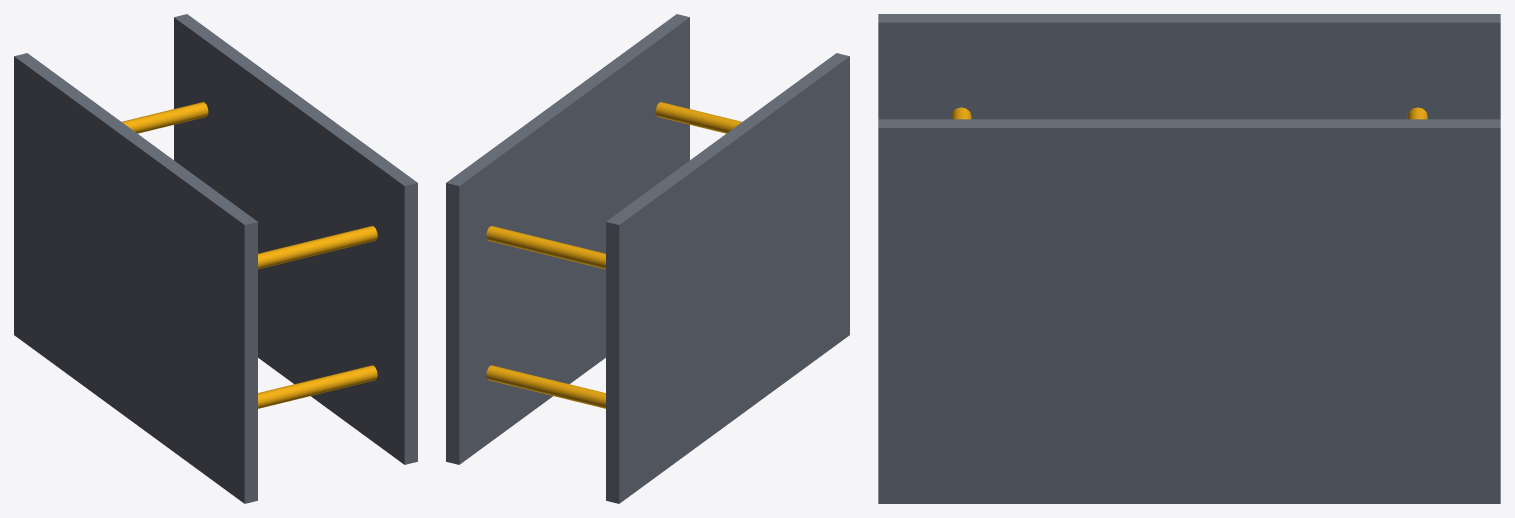
Rendered from plant.temporary.trench_box.glb.
The picture shows the model from 3 angles, left to right: view 1: azimuth 30°, elevation 25°; view 2: azimuth 150°, elevation 25°; view 3: azimuth 270°, elevation 25°; orthographic projection. The views are drawn at different scales.
Parts seen in each view (by area): view 1: main__steel_painted, main__plant_yellow; view 2: main__steel_painted, main__plant_yellow; view 3: main__steel_painted.
Part boxes in pixels (x1=…): main__steel_painted: x1=14, y1=14, x2=417, y2=503; main__plant_yellow: x1=122, y1=102, x2=377, y2=408; main__steel_painted: x1=446, y1=14, x2=849, y2=503; main__plant_yellow: x1=486, y1=102, x2=741, y2=408; main__steel_painted: x1=878, y1=14, x2=1500, y2=503.
Size of the model in its own units: 1.3 by 2 by 3.
